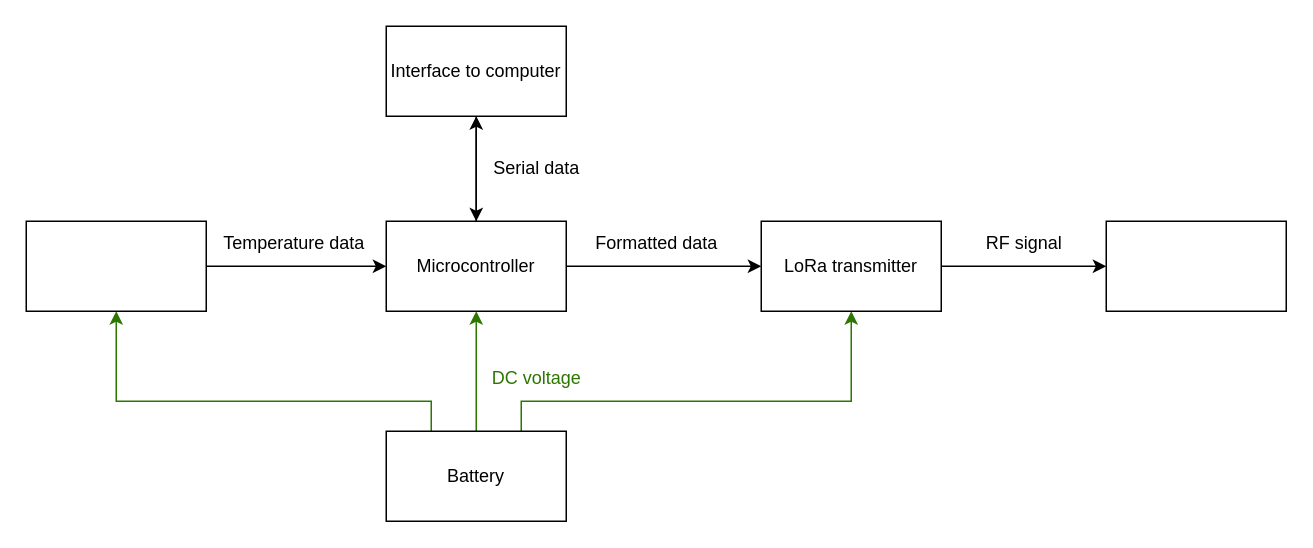
Some shapes in this 1313 by 548 pixel diagram are drawn without their labels. The centre of each missing label's shape, as x and y in pixels:
"Antenna" goes at (1195,265).
"Temperature sensor" goes at (115,265).
